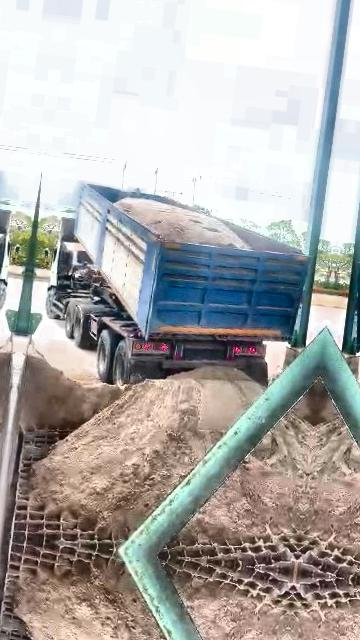sand: (32, 368, 261, 537), (181, 414, 314, 540), (20, 346, 122, 430), (114, 197, 249, 248), (294, 379, 319, 426)
